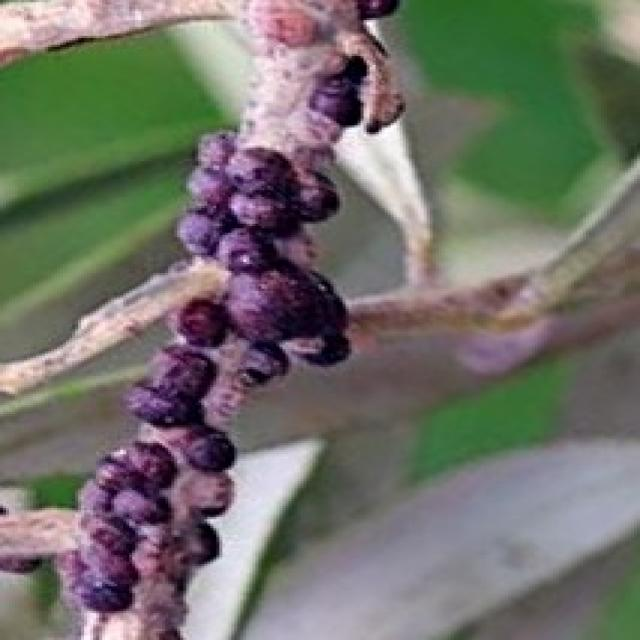Black Scale: (171, 255, 358, 421), (171, 130, 347, 264), (60, 441, 174, 611), (182, 427, 244, 569), (126, 345, 222, 432)
